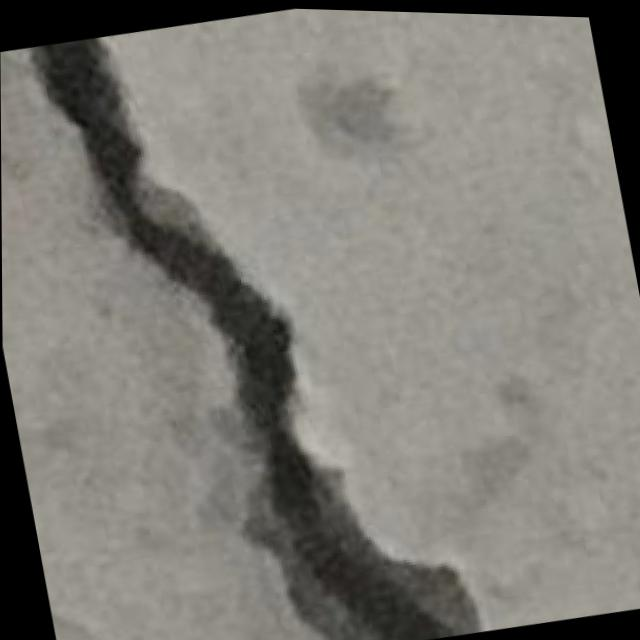Crack: (20, 0, 497, 640)
